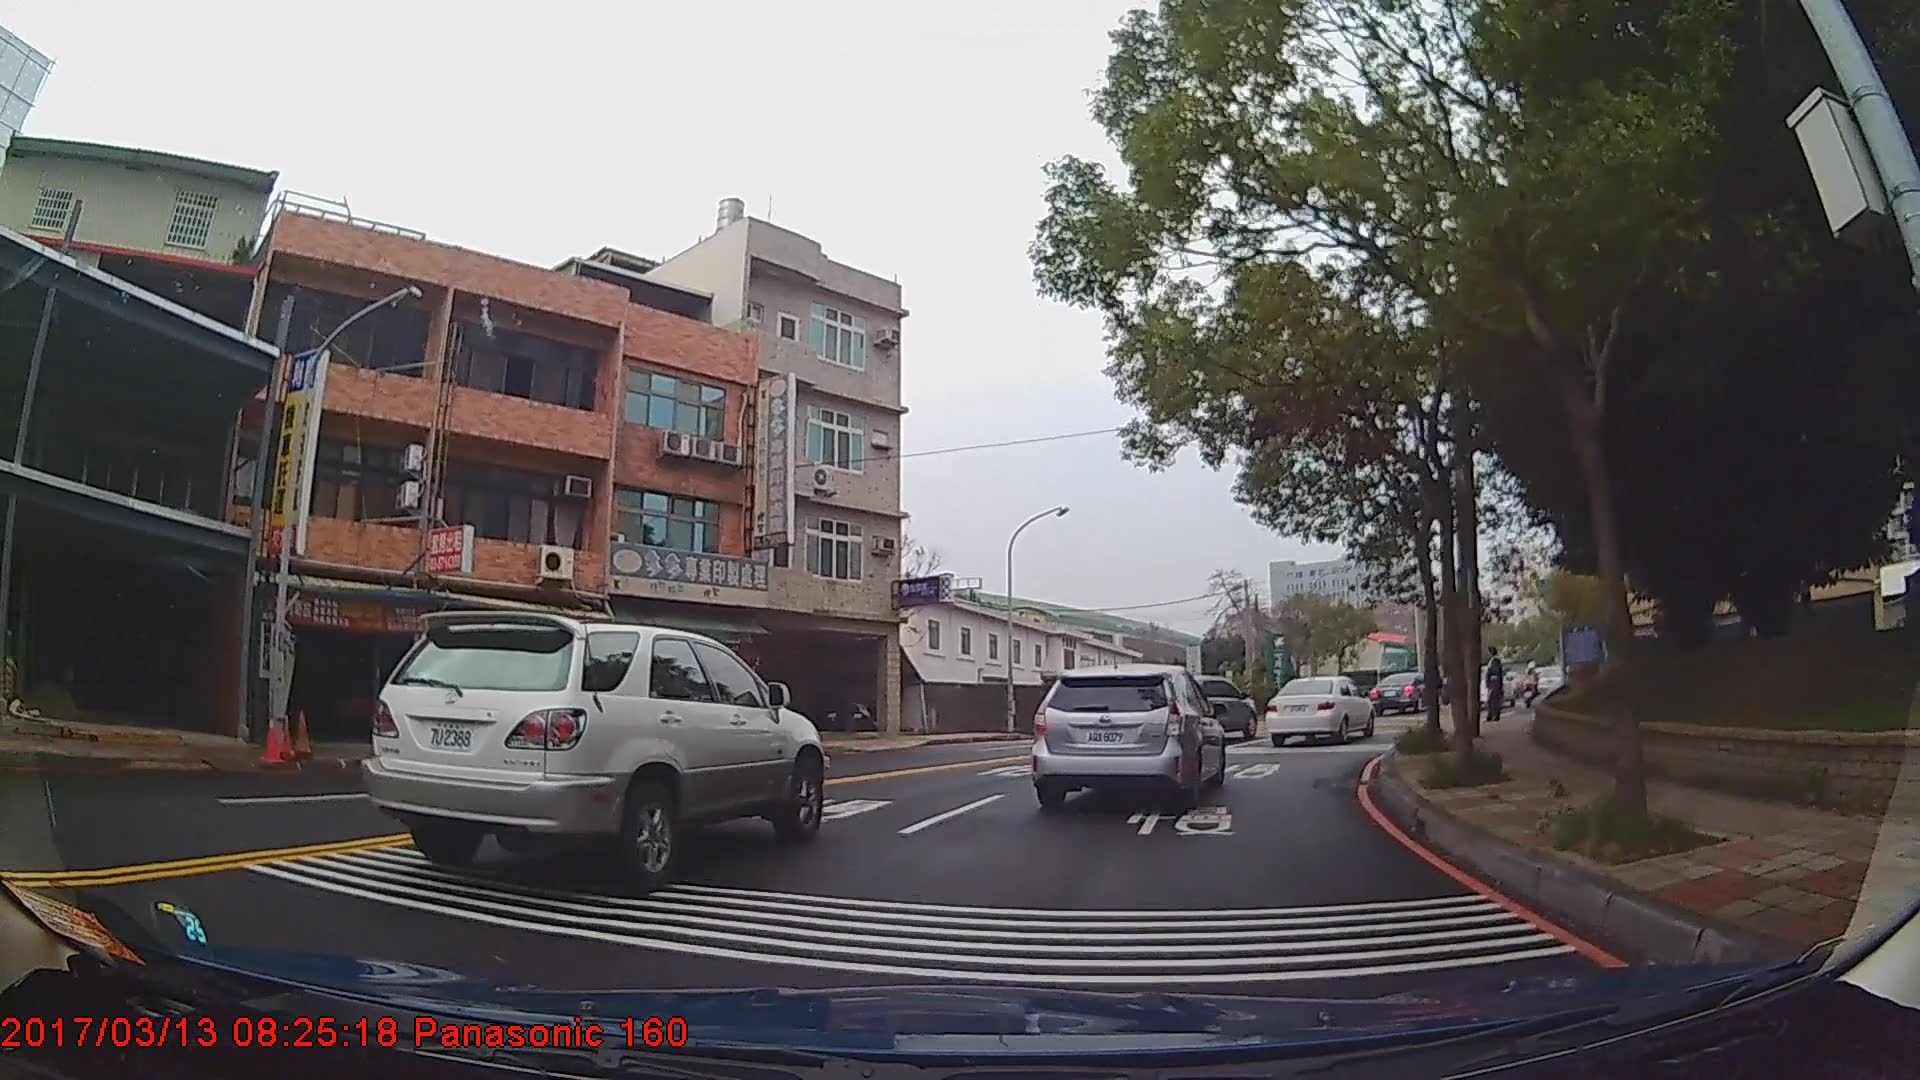vehicle: (359, 608, 825, 895), (1027, 661, 1224, 814), (1259, 673, 1371, 744), (1162, 673, 1259, 742), (1367, 667, 1436, 715)
